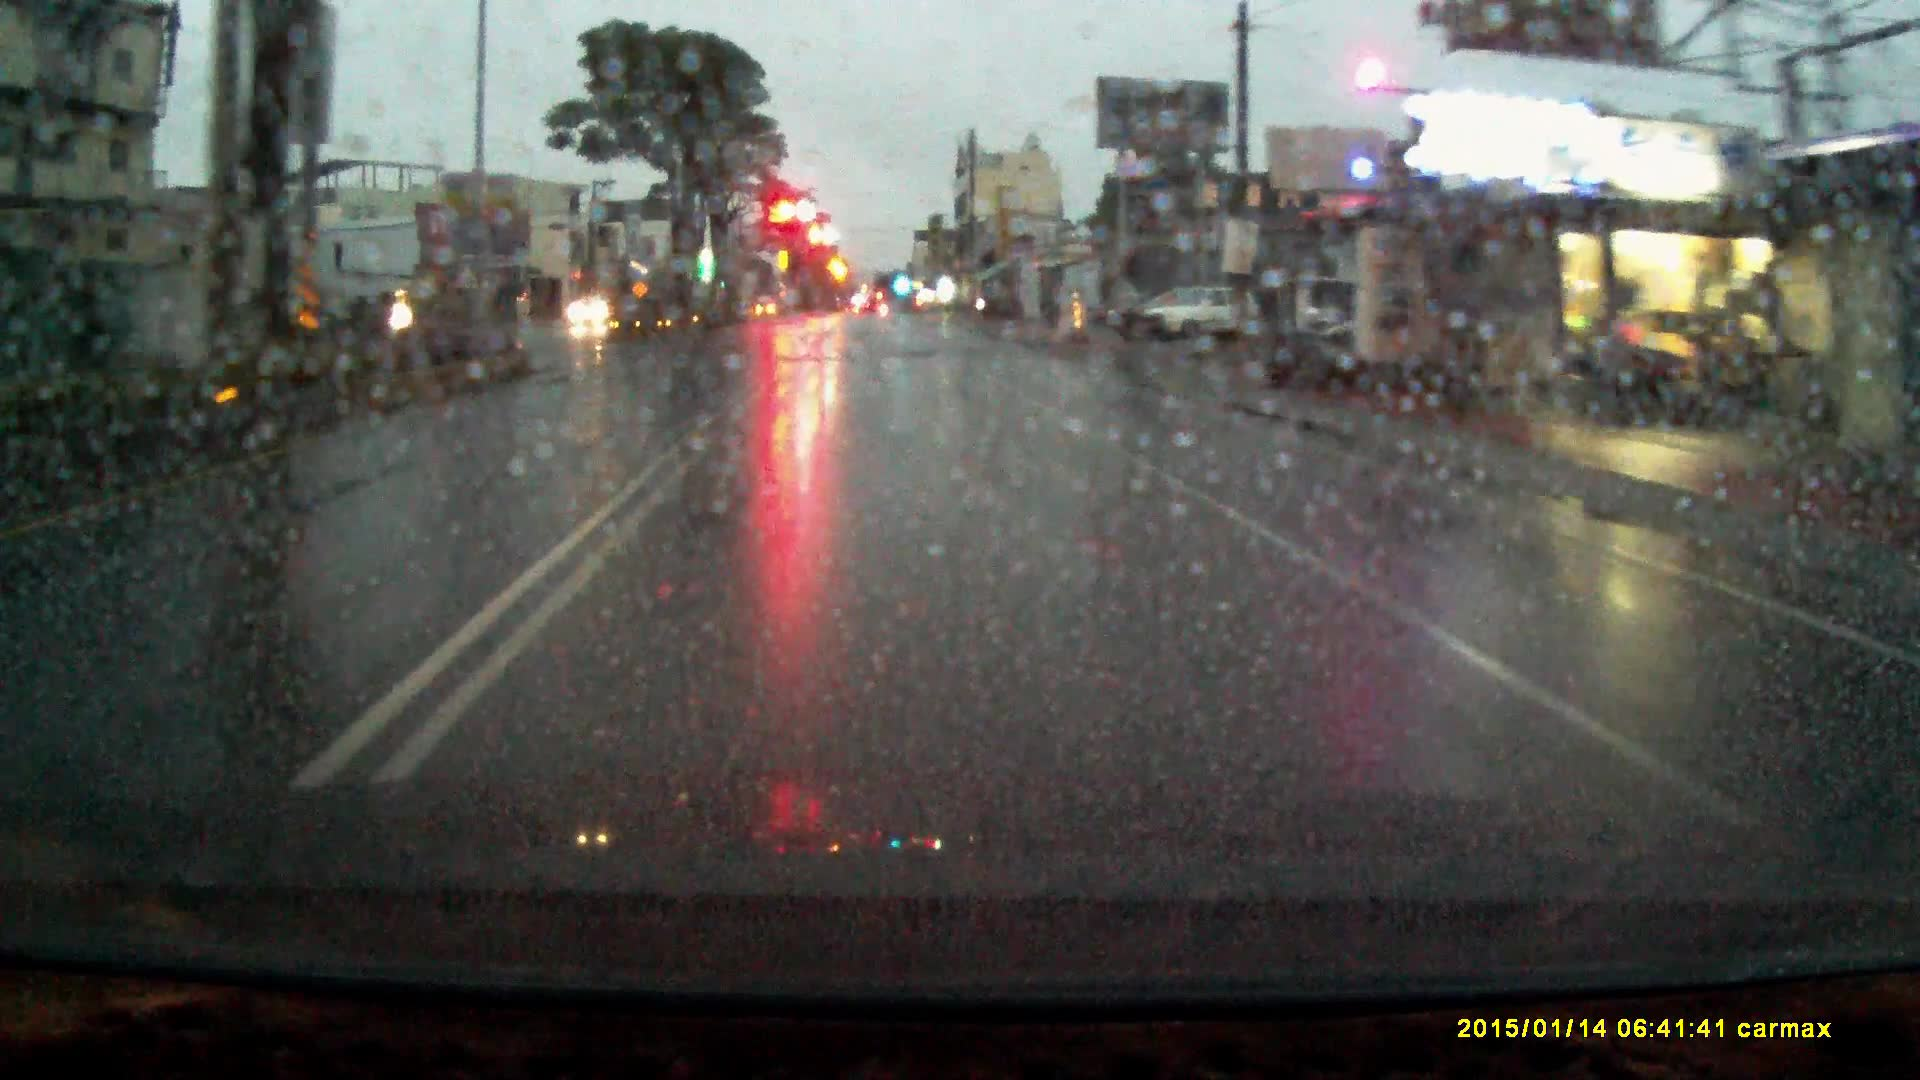vehicle: (1139, 284, 1269, 344), (568, 293, 618, 330)
